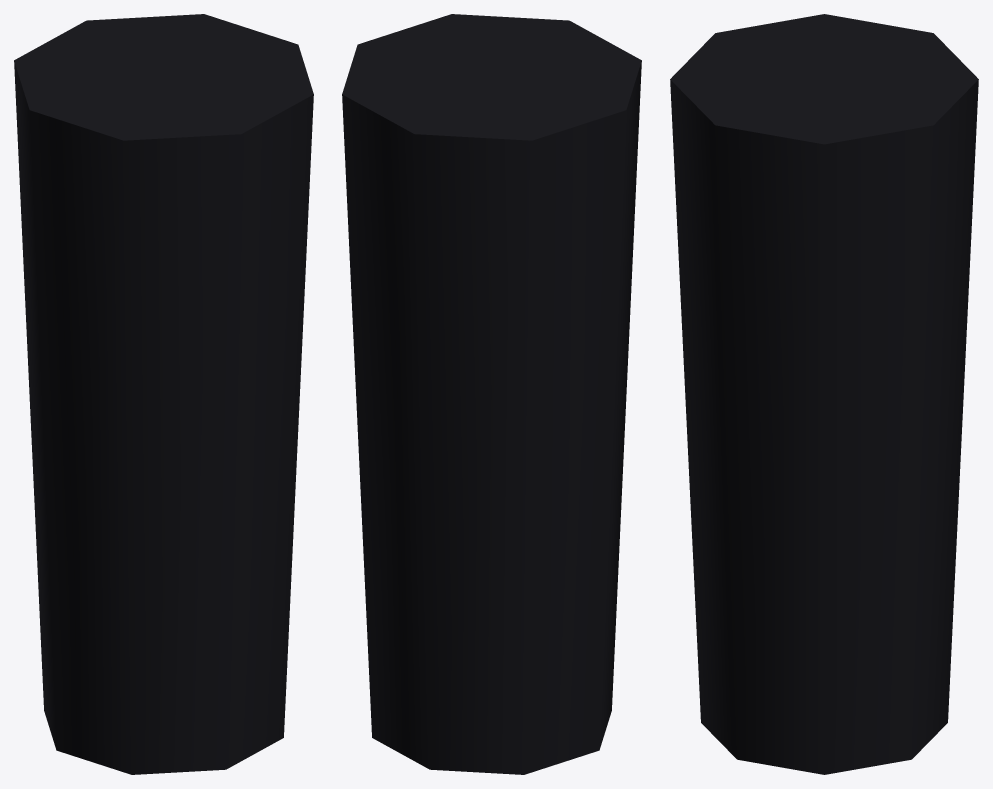
Rendered from PVeladora_Muslo.obj.
3 renders of one model, left to right at view 1: azimuth 30°, elevation 25°; view 2: azimuth 150°, elevation 25°; view 3: azimuth 270°, elevation 25°, orthographic.
Parts seen in each view (by area): view 1: Muslo; view 2: Muslo; view 3: Muslo.
Part boxes in pixels (<box>): Muslo: <box>14,14,313,774</box>; Muslo: <box>342,14,641,774</box>; Muslo: <box>670,14,978,774</box>.
Size of the model in its own units: 0.1 by 0.23 by 0.1.
1 material, 1 textured.
